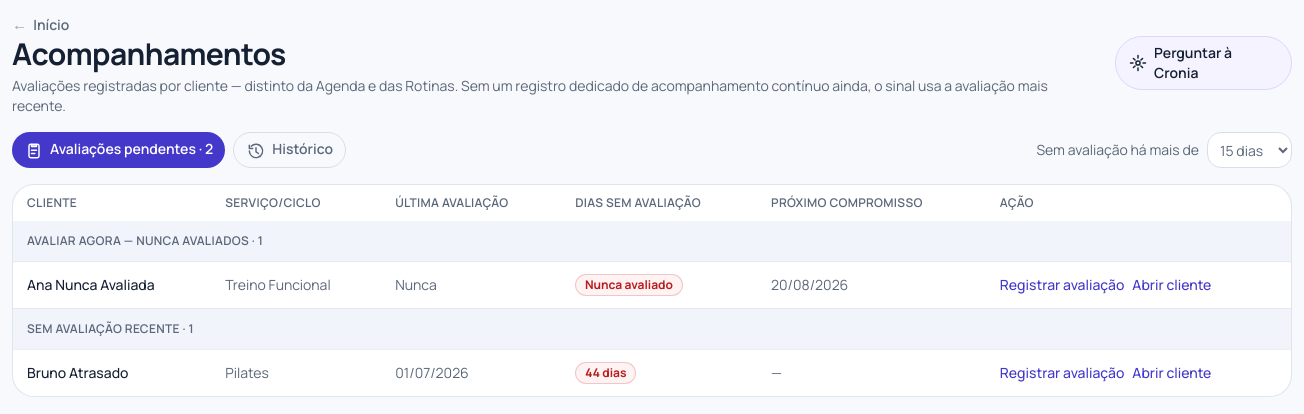
AccompanimentPage desktop — Pendentes vs Histórico, listas densas › switches to Histórico and shows real published evaluations with a link to the record
The width and height of the screenshot is (1304, 414).
expect the link "Ana Nunca Avaliada" is shown: met, box top-left (27, 275), bottom-right (155, 294)
What coordinates should you click on to do the following:
click the tab "Histórico"
I would click on:
 (290, 150)
Its box is top-left (233, 132), bottom-right (346, 168).
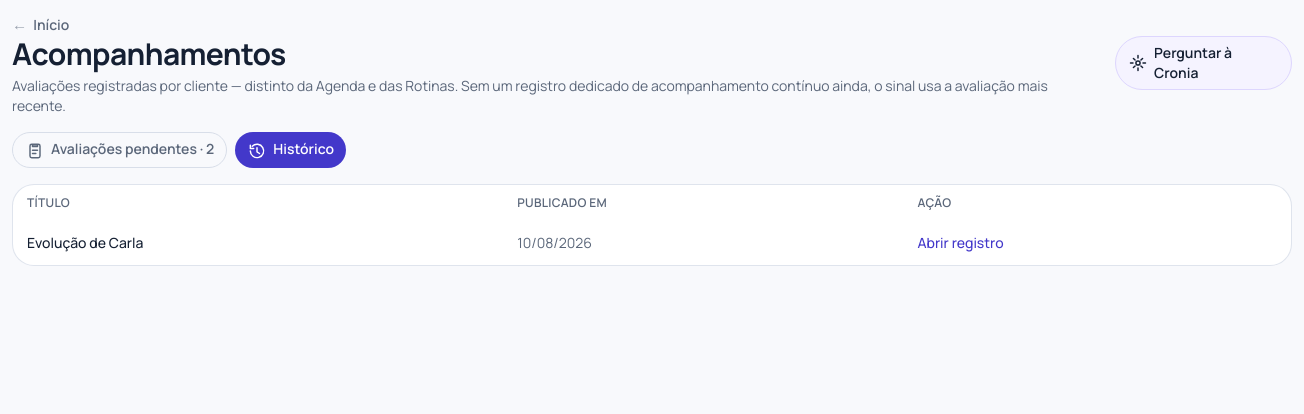
expect the text "Evolução de Carla" is shown: met, box top-left (13, 221), bottom-right (503, 265)
